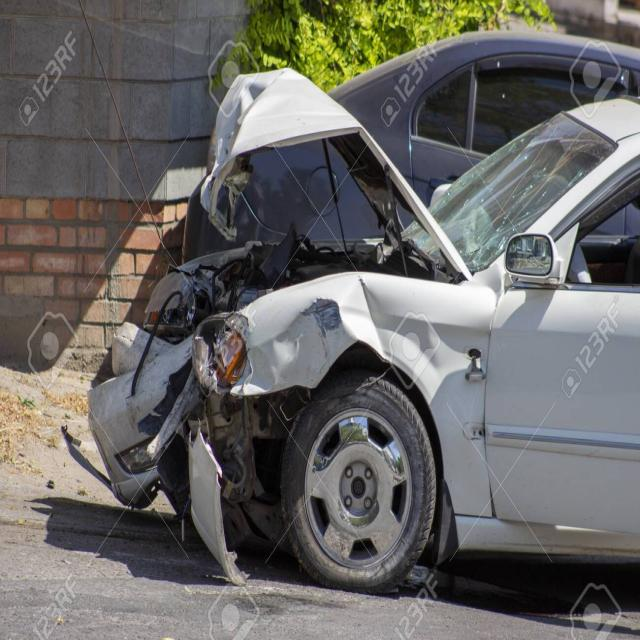Severe Damage: (106, 28, 418, 588)
